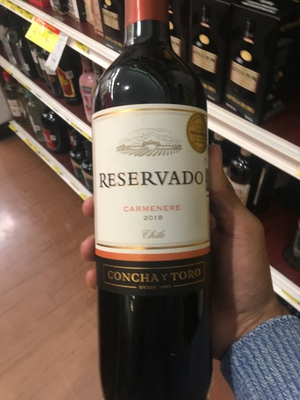reservado carmenere: (84, 14, 216, 397)
